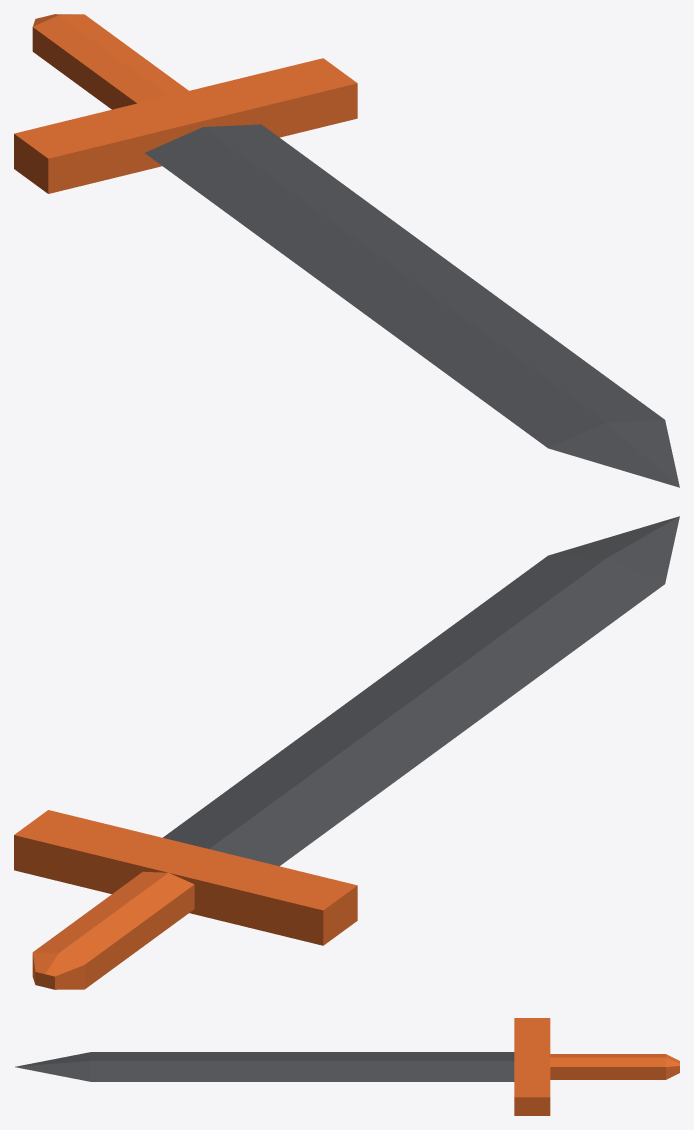
Rendered from iron_broad_sword.glb.
3 views of the same model, one above another, from view 1: azimuth 30°, elevation 25°; view 2: azimuth 150°, elevation 25°; view 3: azimuth 270°, elevation 25° (orthographic). The views are drawn at different scales.
Visible parts, largest first — view 1: Cube; view 2: Cube; view 3: Cube.
Part boxes in pixels (bbox=[...]): Cube: bbox=[14, 14, 679, 487]; Cube: bbox=[14, 516, 679, 989]; Cube: bbox=[15, 1018, 679, 1115].
Bounding box in the file's own units: 4.87 × 0.5315 × 17.3.
